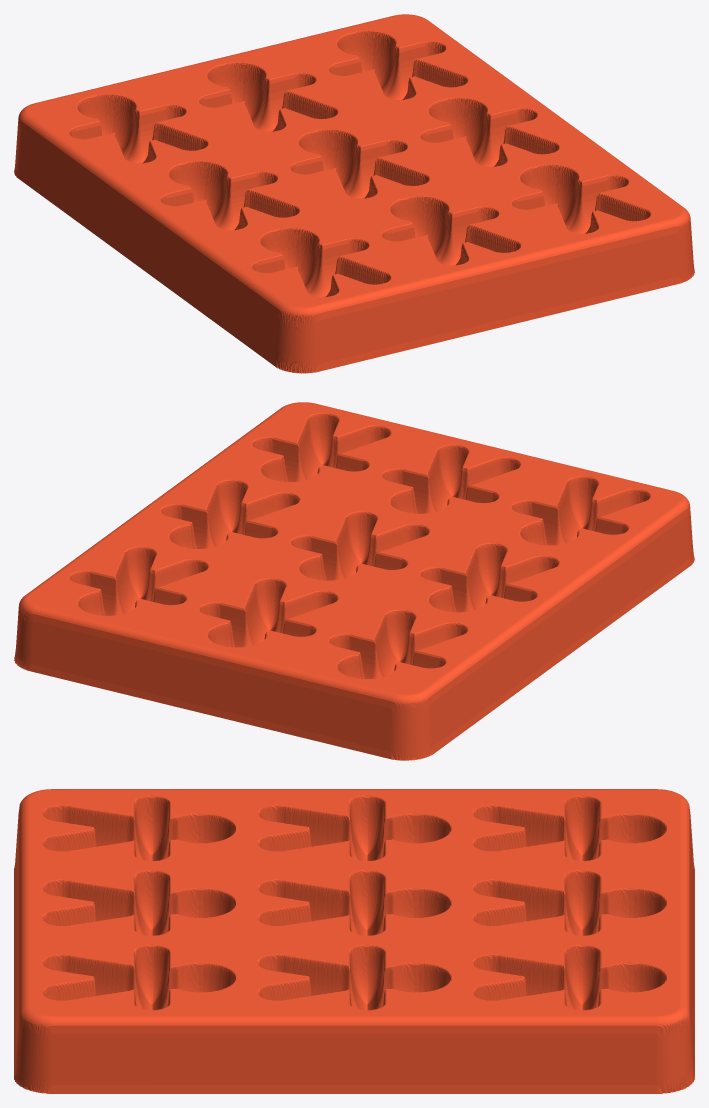
File: mold.glb
3 renders of one model, top to bottom at view 1: azimuth 30°, elevation 25°; view 2: azimuth 150°, elevation 25°; view 3: azimuth 270°, elevation 25°, orthographic. The views are drawn at different scales.
Visible parts, largest first — view 1: geometry_0; view 2: geometry_0; view 3: geometry_0.
Part boxes in pixels (box(x1,y1,x2,y2)): geometry_0: box(14, 14, 694, 373); geometry_0: box(14, 402, 694, 760); geometry_0: box(14, 789, 694, 1093).
Size of the model in its own units: 0.1323 by 0.0185 by 0.1595.
